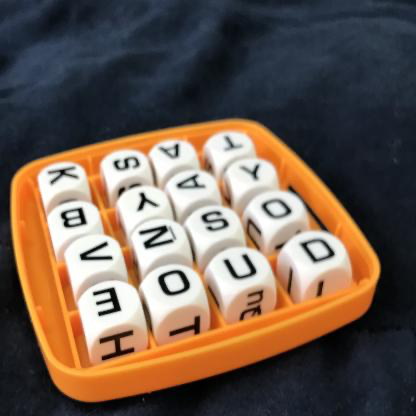a: (154, 139, 191, 168), (172, 173, 213, 199)
b: (49, 204, 99, 235)
d: (295, 232, 338, 270)
e: (82, 286, 131, 319)
k: (39, 157, 85, 193)
n: (134, 224, 184, 255)
o: (255, 191, 300, 227), (154, 264, 194, 304)
s: (199, 208, 236, 243), (104, 149, 145, 177)
t: (207, 131, 254, 158)
u: (217, 250, 263, 289)
v: (72, 240, 120, 271)
y: (126, 185, 165, 218), (234, 160, 271, 185)
